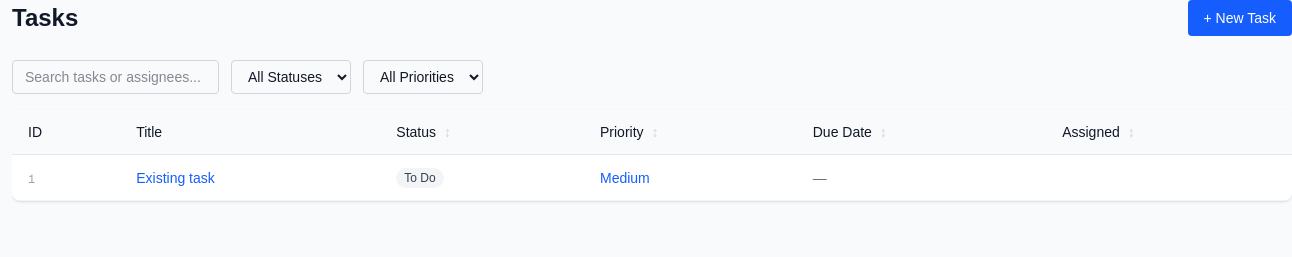
Test: EmptyStates › task list shows filtered empty state
Check: the link "Existing task" is shown, box [136,170,215,186]
Select "Done" in the 1st dropdown at (291, 77), box [231,60,351,94]
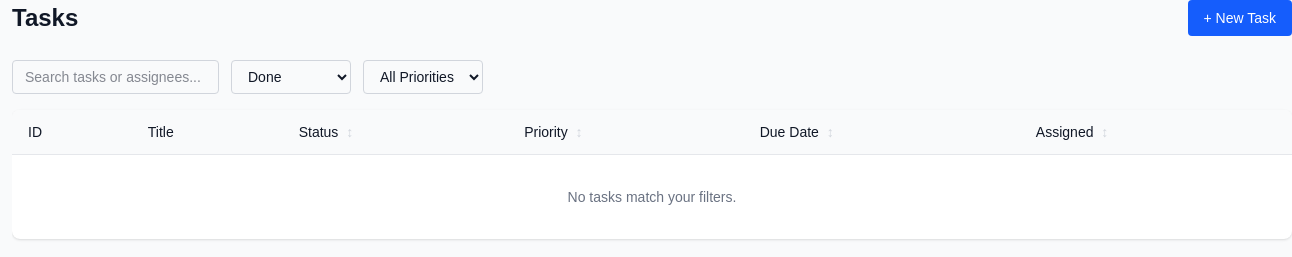
Check: the text "No tasks match your filters." is shown, box [12,154,1291,239]
